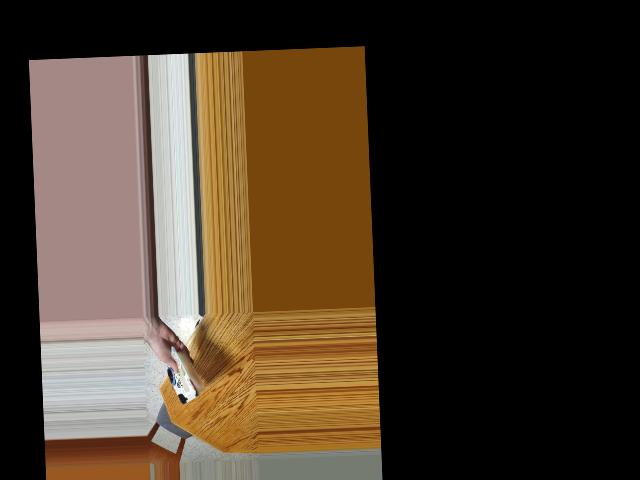cheese: (157, 353, 203, 402)
